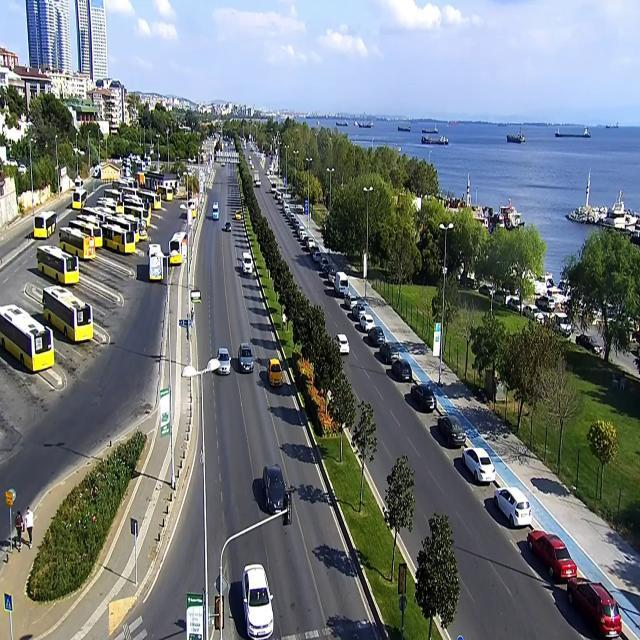bus: (0, 305, 55, 372), (42, 288, 94, 342), (36, 246, 79, 284), (59, 228, 96, 259), (101, 224, 136, 254), (69, 220, 102, 248), (121, 214, 148, 242), (125, 199, 150, 226), (34, 211, 58, 238), (169, 231, 188, 264), (149, 244, 164, 281), (136, 191, 161, 210), (71, 188, 88, 209), (158, 185, 174, 201)
car: (569, 578, 622, 637), (529, 531, 578, 581), (242, 564, 274, 640), (494, 488, 532, 526), (262, 465, 289, 514), (462, 448, 495, 483), (438, 415, 466, 446), (410, 385, 436, 411), (379, 342, 406, 364), (389, 359, 411, 382), (268, 358, 285, 387), (365, 326, 386, 347), (238, 342, 252, 372), (334, 271, 349, 297), (216, 348, 229, 374), (241, 251, 255, 274), (358, 314, 375, 332), (344, 294, 361, 309)
